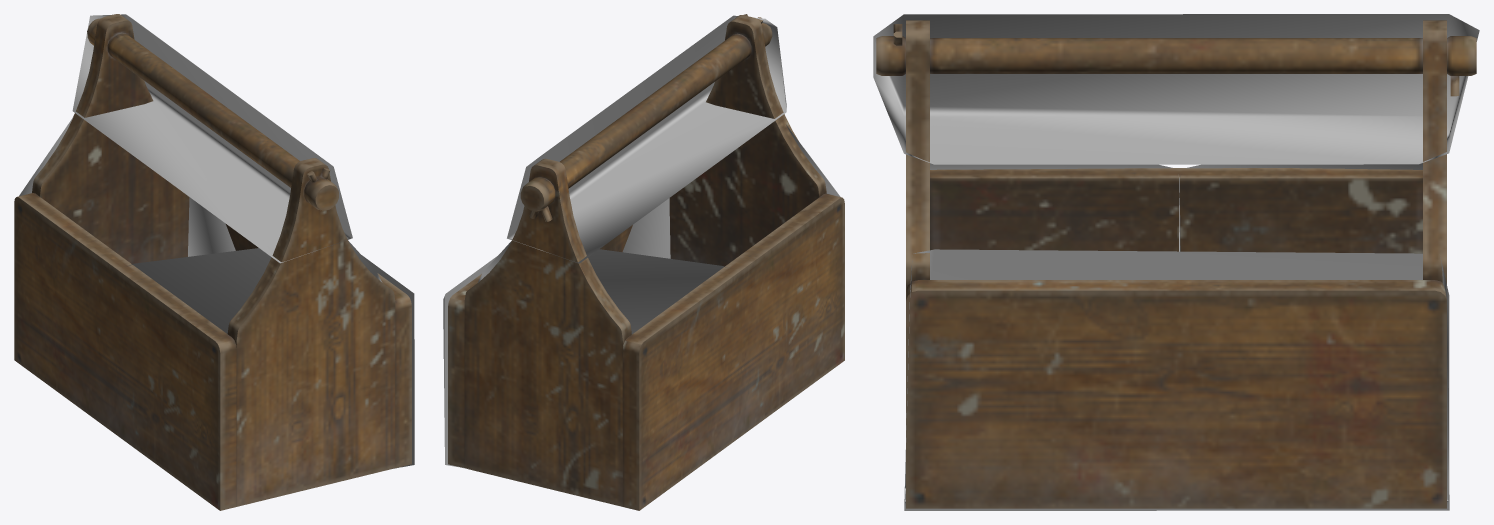
File: SM_Wood_Toolbox.gltf
The picture shows the model from 3 angles, left to right: view 1: azimuth 30°, elevation 25°; view 2: azimuth 150°, elevation 25°; view 3: azimuth 270°, elevation 25°; orthographic projection. The views are drawn at different scales.
Visible parts, largest first — view 1: SM_Wood_Toolbox_LOD0, SM_Wood_Toolbox_ConvexHulls; view 2: SM_Wood_Toolbox_LOD0, SM_Wood_Toolbox_ConvexHulls; view 3: SM_Wood_Toolbox_LOD0, SM_Wood_Toolbox_ConvexHulls.
Part boxes in pixels (box(x1,y1,x2,y2)): SM_Wood_Toolbox_LOD0: box(14, 14, 411, 510); SM_Wood_Toolbox_ConvexHulls: box(19, 14, 414, 469); SM_Wood_Toolbox_LOD0: box(448, 14, 844, 510); SM_Wood_Toolbox_ConvexHulls: box(443, 15, 840, 469); SM_Wood_Toolbox_LOD0: box(876, 20, 1476, 508); SM_Wood_Toolbox_ConvexHulls: box(873, 14, 1479, 510).
Size of what is drawn, in the model's own units: 0.2742 by 0.4325 by 0.5602.
